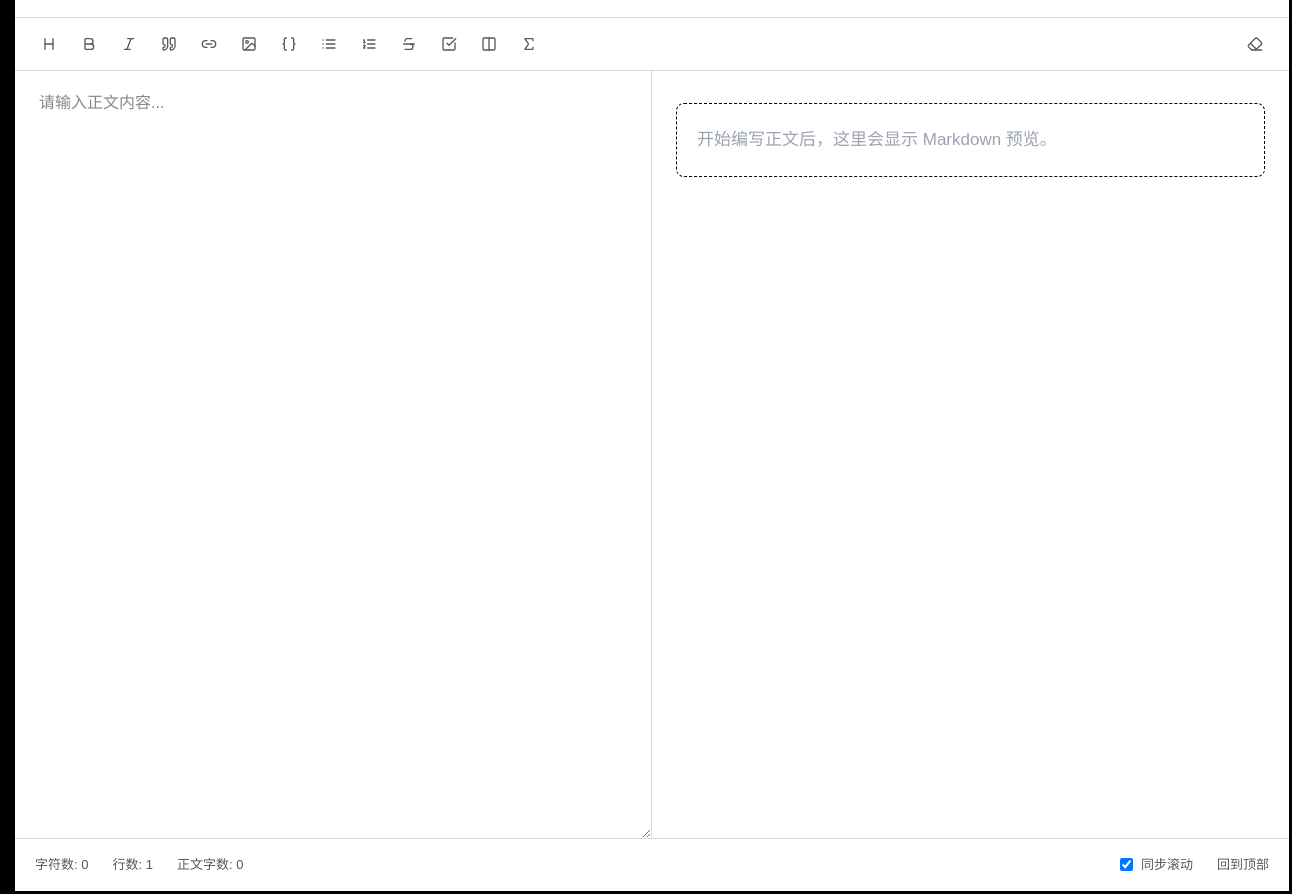
Scenario: PostComposerPage › wraps selected text in bold markdown
(page scrolled)
In the text box with placeholder "请输入正文内容...": (333, 454) [15,71,651,838], type "需要加粗"
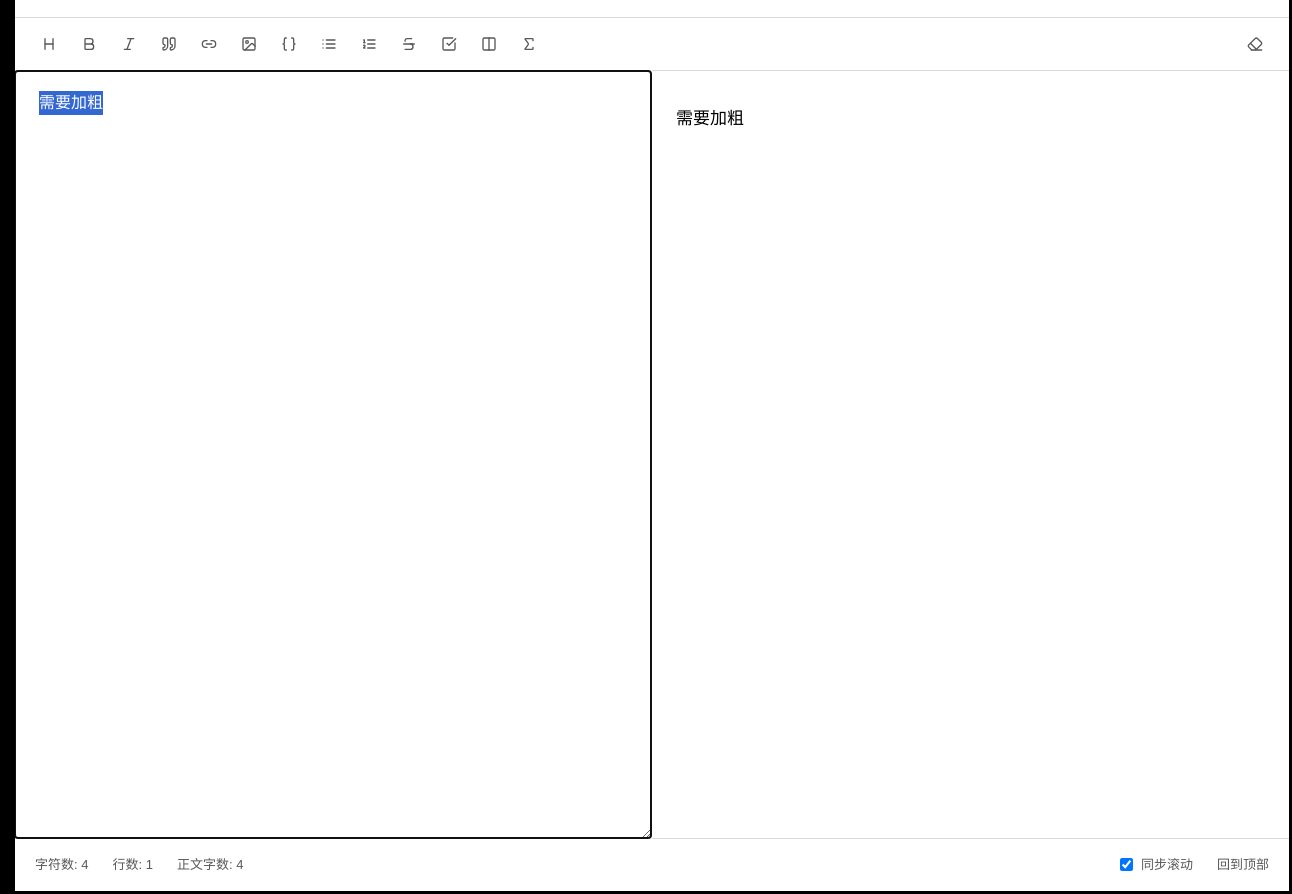
Click the button named "加粗": (89, 44) [75,30,103,58]
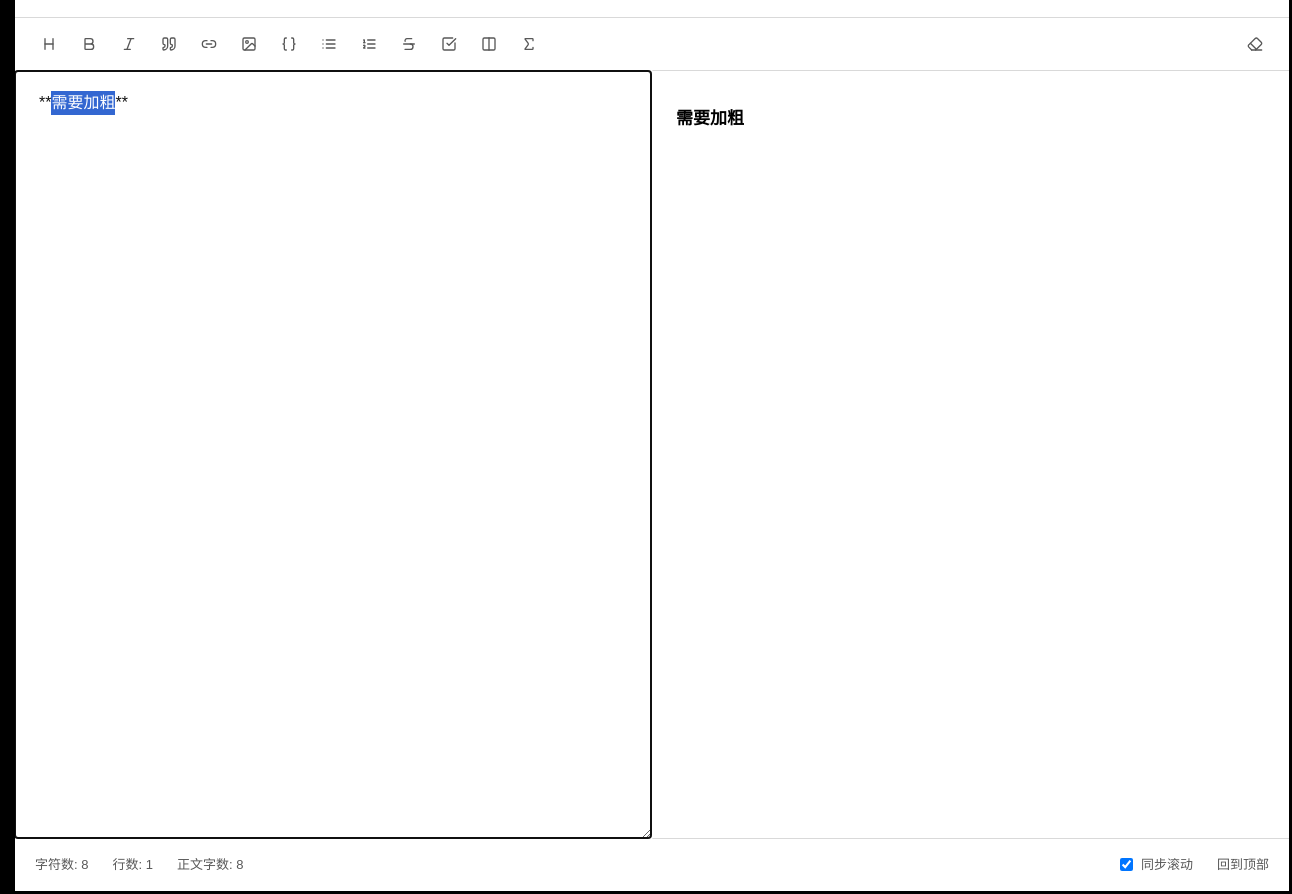
Result: the text box with placeholder "请输入正文内容..." holds "**需要加粗**" at [15,71,651,838]
